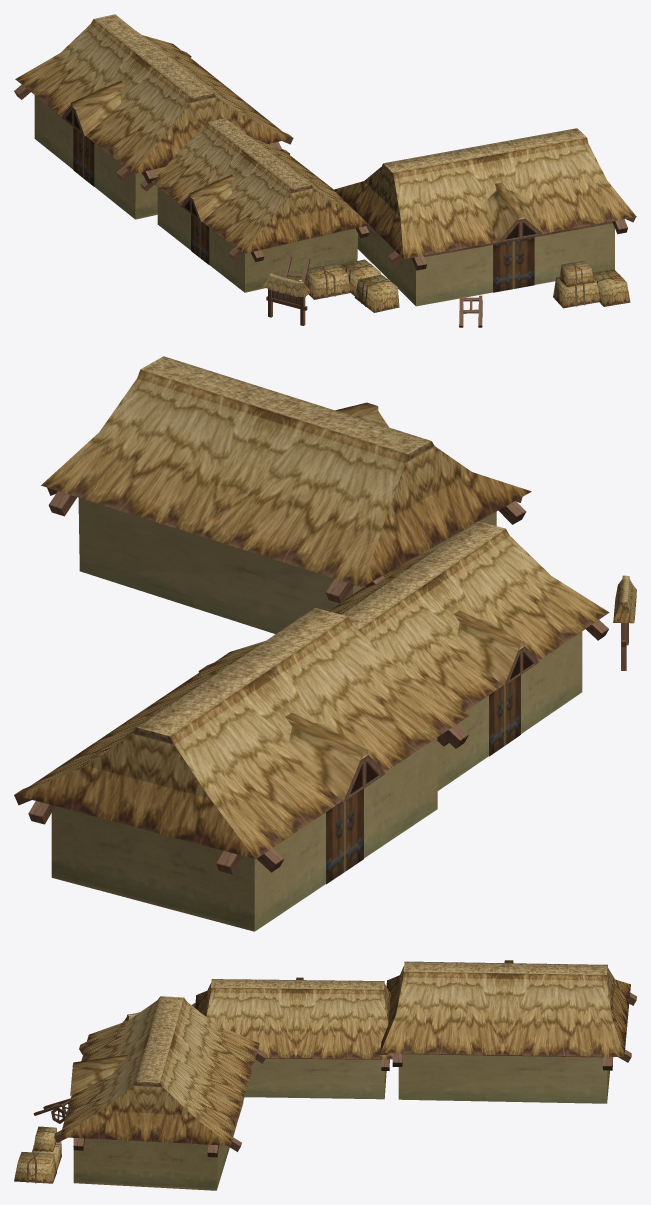
File: Area_13_2.fbx
3 renders of one model, top to bottom at view 1: azimuth 30°, elevation 25°; view 2: azimuth 150°, elevation 25°; view 3: azimuth 270°, elevation 25°, orthographic. The views are drawn at different scales.
Parts seen in each view (by area): view 1: Area_13_2; view 2: Area_13_2; view 3: Area_13_2.
Part boxes in pixels (x1,y1,x2,y2): Area_13_2: [14, 14, 636, 327]; Area_13_2: [14, 356, 636, 931]; Area_13_2: [14, 960, 636, 1190].
Bounding box in the file's own units: 2543 × 772 × 3939.
